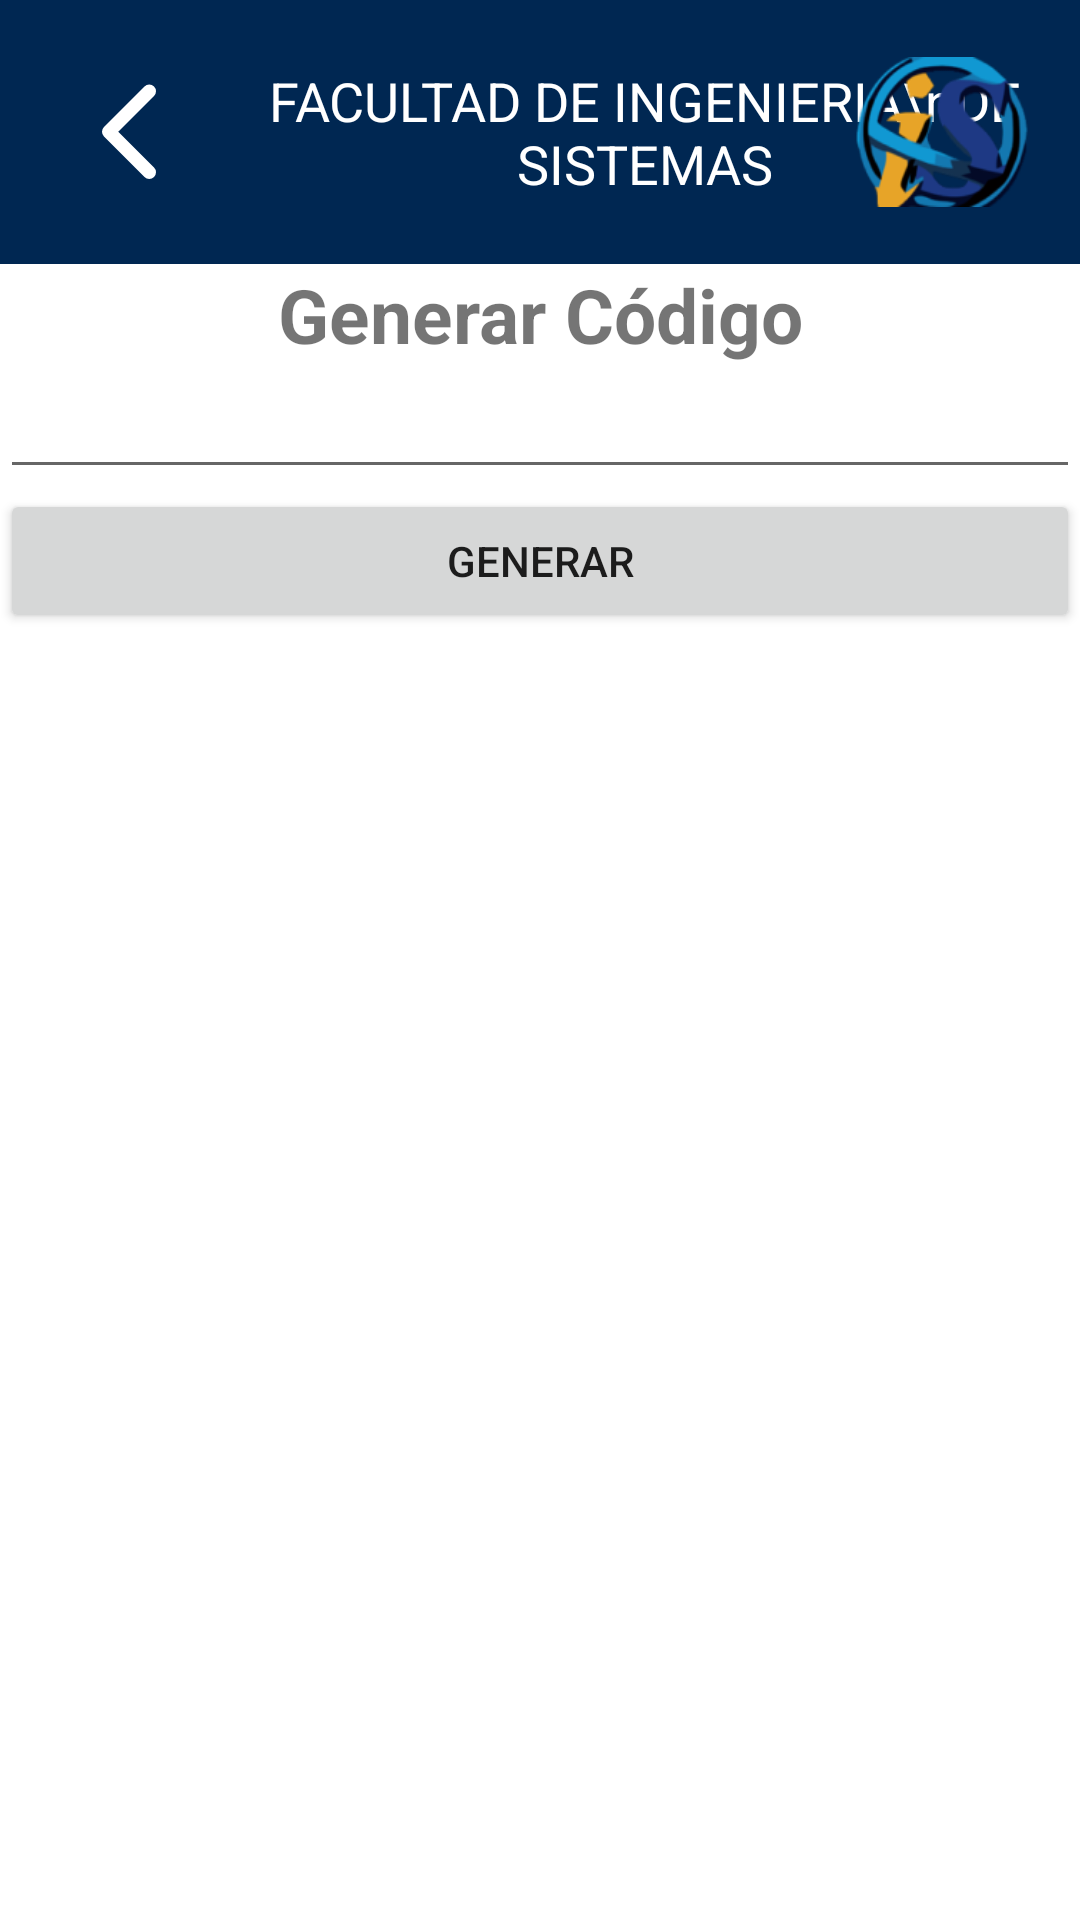

Named icons in this screenshot (1080x1920) and their centers, point (x, y):
volver: point (129, 131)
